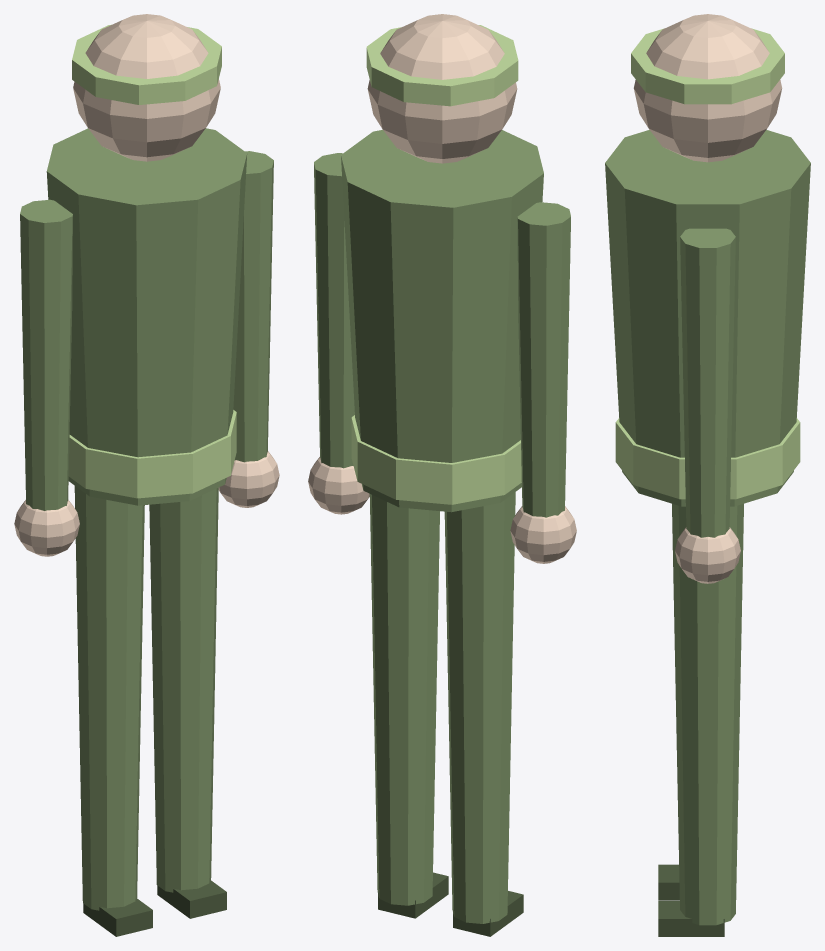
The picture shows the model from 3 angles, left to right: view 1: azimuth 30°, elevation 25°; view 2: azimuth 150°, elevation 25°; view 3: azimuth 270°, elevation 25°; orthographic projection.
Parts seen in each view (by area): view 1: torso, thighR, thighL, armR, head, armL, belt, band, handR, handL, footR, footL; view 2: torso, thighR, thighL, armR, head, armL, belt, band, handR, handL, footL, footR; view 3: torso, thighL, armL, head, belt, band, handL, footL, footR.
Boxes of the visible parts, left/top/right/bottom form: torso: left=46, top=128, right=247, bottom=505; thighR: left=74, top=486, right=144, bottom=910; thighL: left=149, top=487, right=218, bottom=892; armR: left=20, top=199, right=72, bottom=510; head: left=73, top=14, right=220, bottom=161; armL: left=233, top=151, right=273, bottom=462; belt: left=68, top=410, right=236, bottom=498; band: left=72, top=24, right=221, bottom=104; handR: left=14, top=500, right=79, bottom=556; handL: left=218, top=451, right=279, bottom=507; footR: left=83, top=898, right=152, bottom=936; footL: left=157, top=880, right=226, bottom=918; torso: left=341, top=129, right=543, bottom=512; thighR: left=444, top=492, right=515, bottom=923; thighL: left=369, top=494, right=439, bottom=905; armR: left=517, top=202, right=570, bottom=517; head: left=367, top=14, right=517, bottom=163; armL: left=314, top=153, right=354, bottom=468; belt: left=351, top=415, right=521, bottom=504; band: left=366, top=25, right=518, bottom=106; handR: left=510, top=506, right=576, bottom=563; handL: left=308, top=457, right=369, bottom=514; footL: left=378, top=872, right=448, bottom=918; footR: left=453, top=891, right=523, bottom=936; torso: left=605, top=130, right=810, bottom=506; thighL: left=672, top=503, right=743, bottom=925; armL: left=680, top=228, right=735, bottom=537; head: left=633, top=14, right=782, bottom=162; belt: left=615, top=418, right=800, bottom=499; band: left=631, top=28, right=784, bottom=104; handL: left=675, top=527, right=740, bottom=583; footL: left=658, top=901, right=724, bottom=936; footR: left=658, top=864, right=679, bottom=900.
Bounding box in the file's own units: 0.902 × 2.97 × 0.624.
